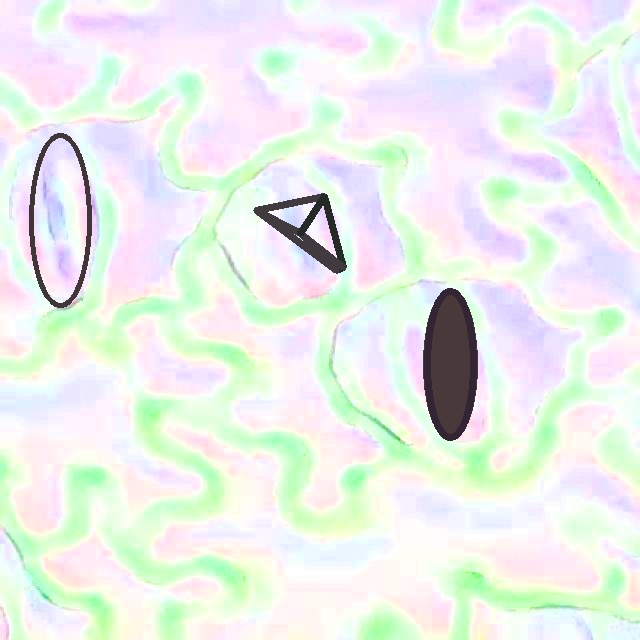open: (27, 131, 93, 308), (423, 288, 477, 439), (253, 193, 346, 273)
